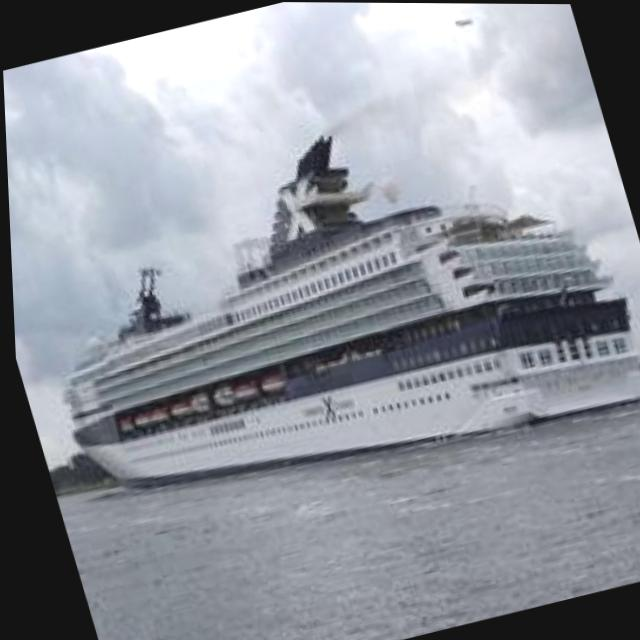ship2: (61, 141, 640, 493)
